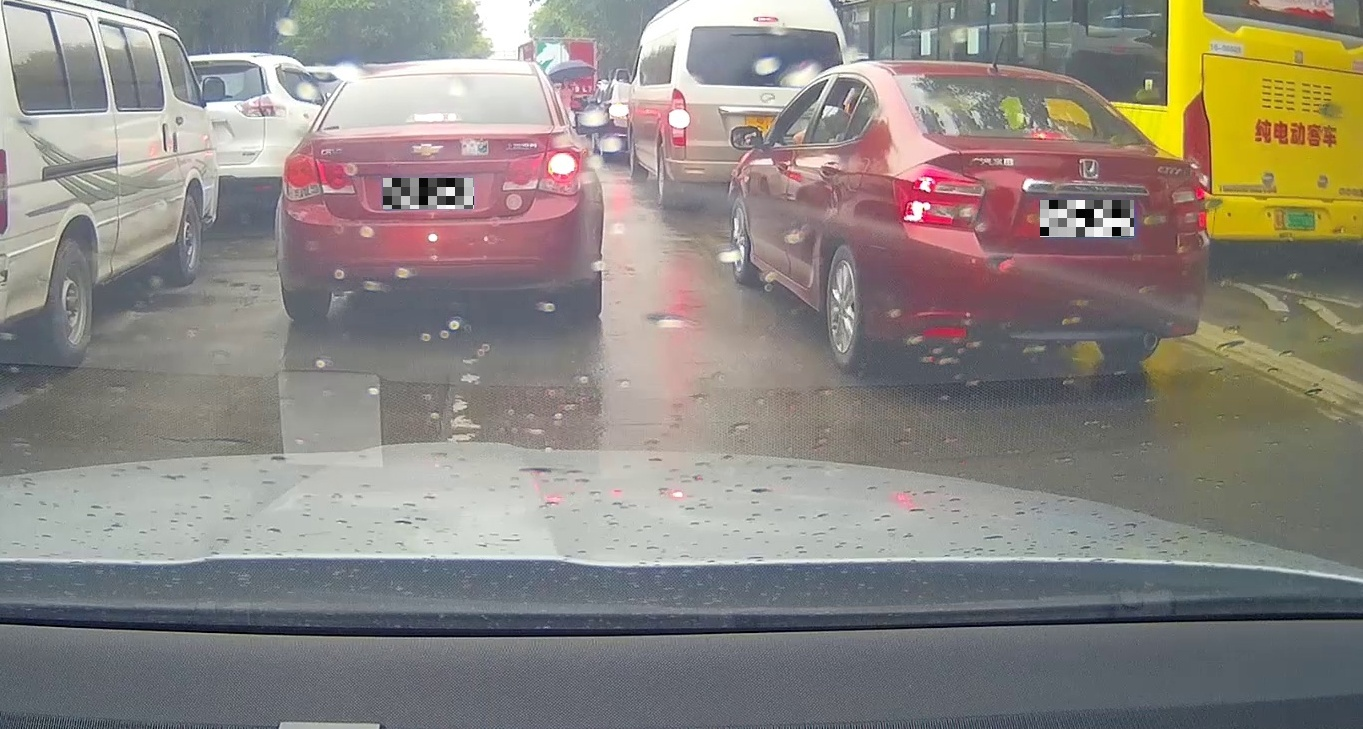L_light: (893, 164, 988, 230), (283, 154, 356, 202)
R_light: (502, 148, 582, 196), (1170, 178, 1207, 232)
T_light: (1023, 130, 1073, 139), (407, 113, 458, 121)
day-brake: (892, 59, 1209, 369)
day-right: (275, 58, 605, 323)
plate_1: (383, 178, 474, 209)
plate_2: (1040, 200, 1134, 237)
